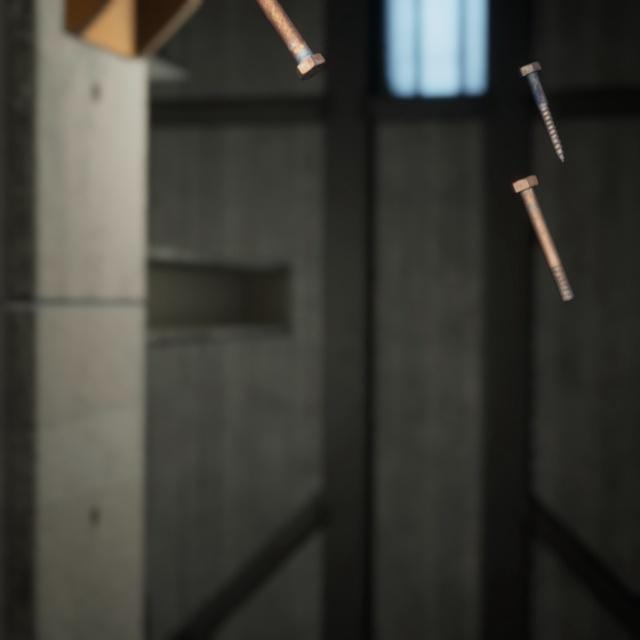bolt: (505, 154, 578, 290), (512, 45, 569, 154), (254, 0, 330, 76)
